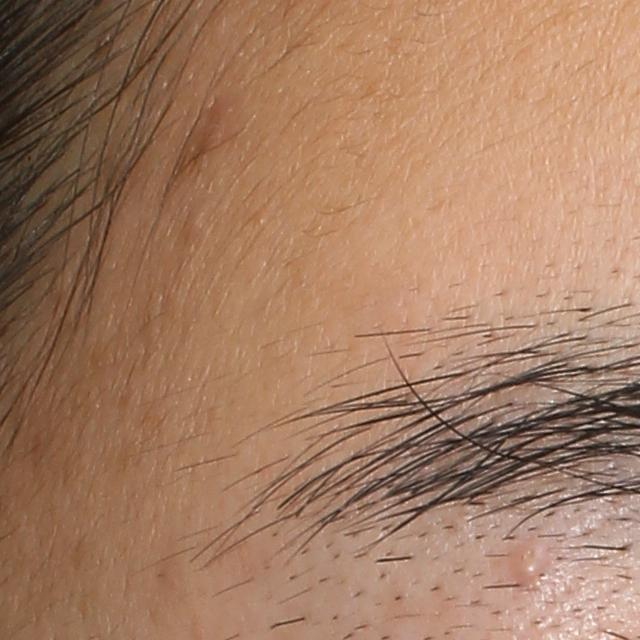papule: (504, 543, 552, 589)
